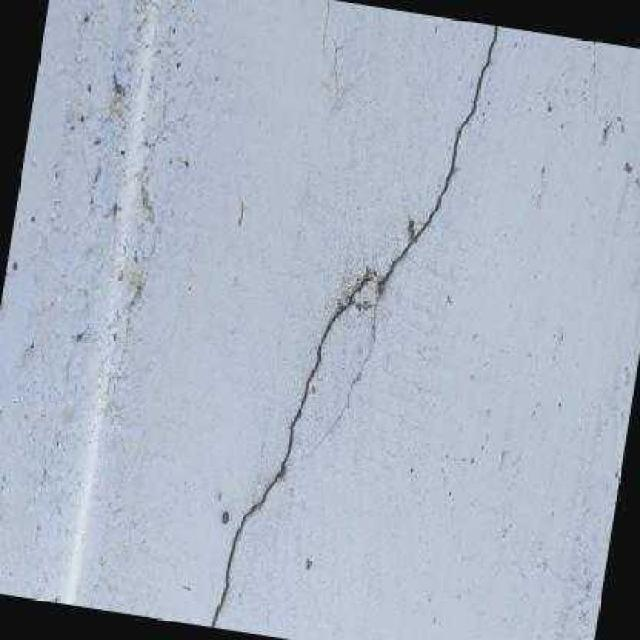D00: (315, 23, 496, 444), (209, 277, 365, 627)
